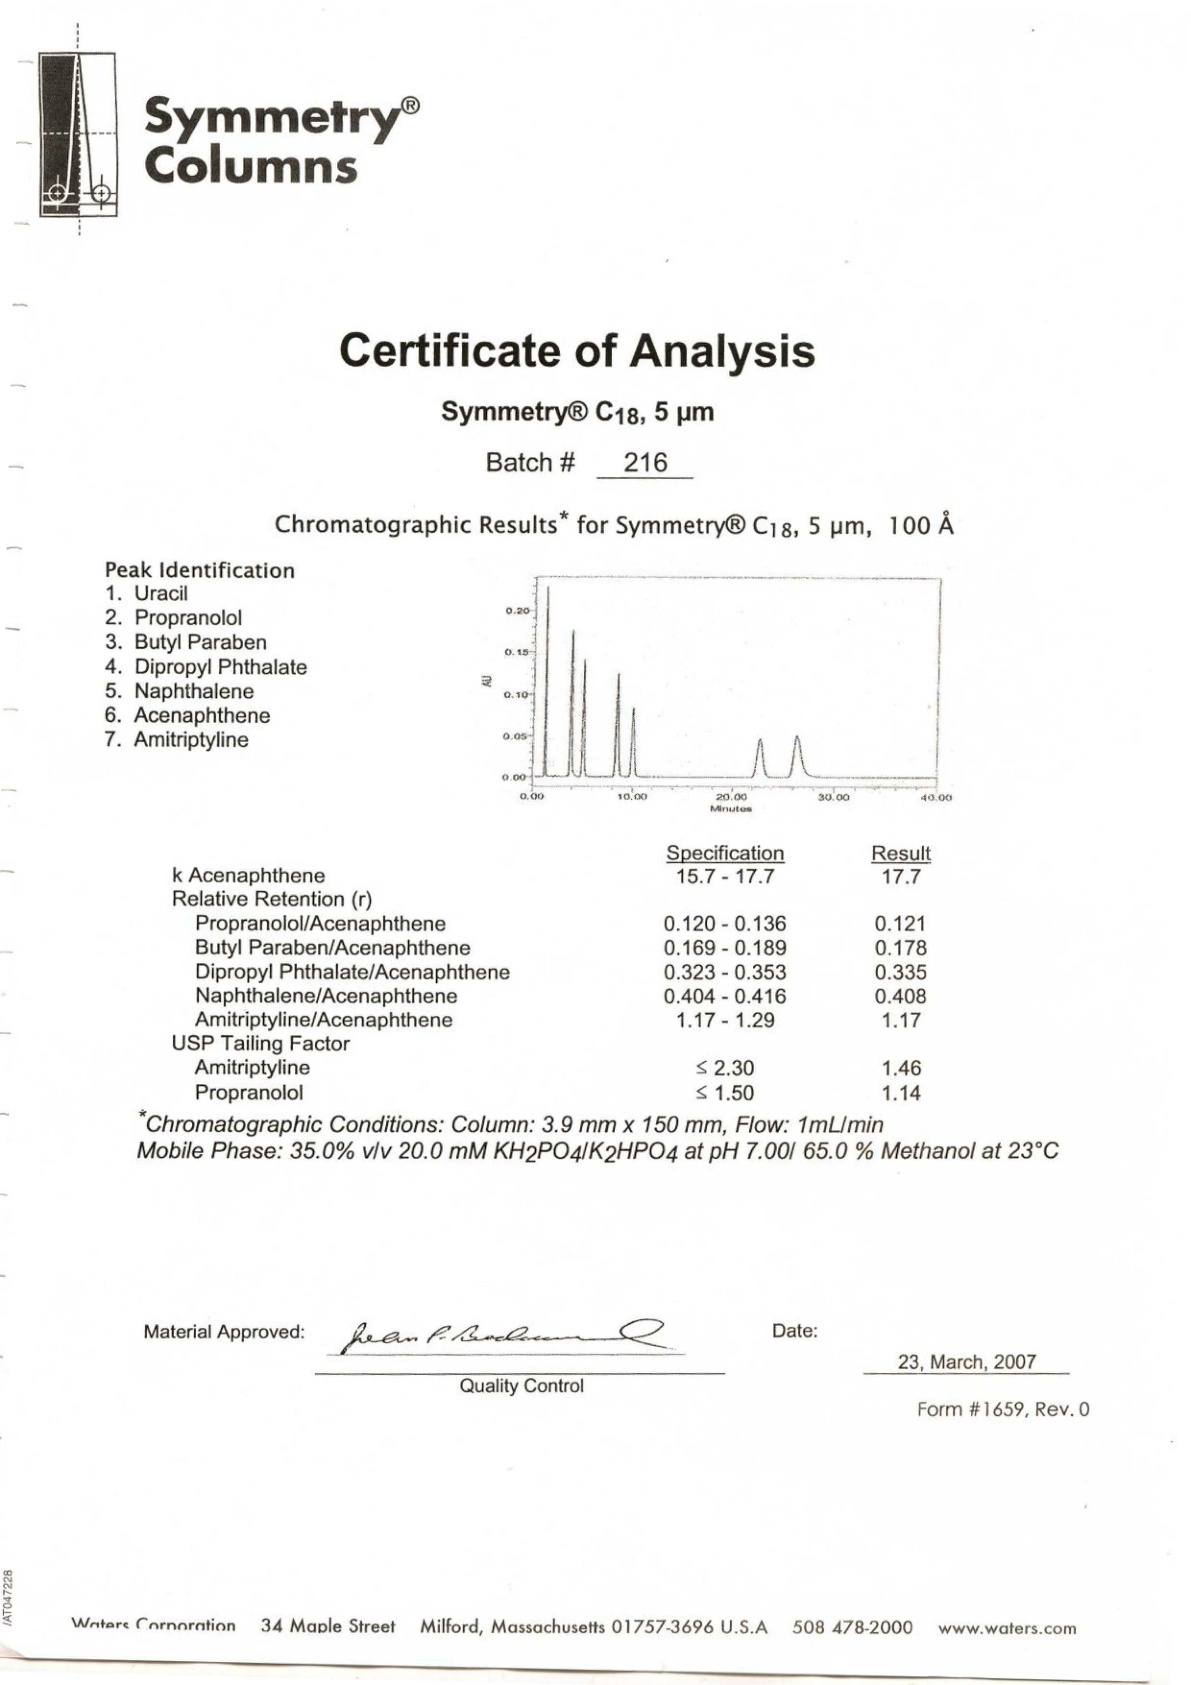nolines: (170, 843, 933, 1104)
